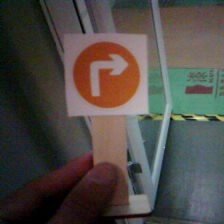right: (65, 36, 149, 118)
